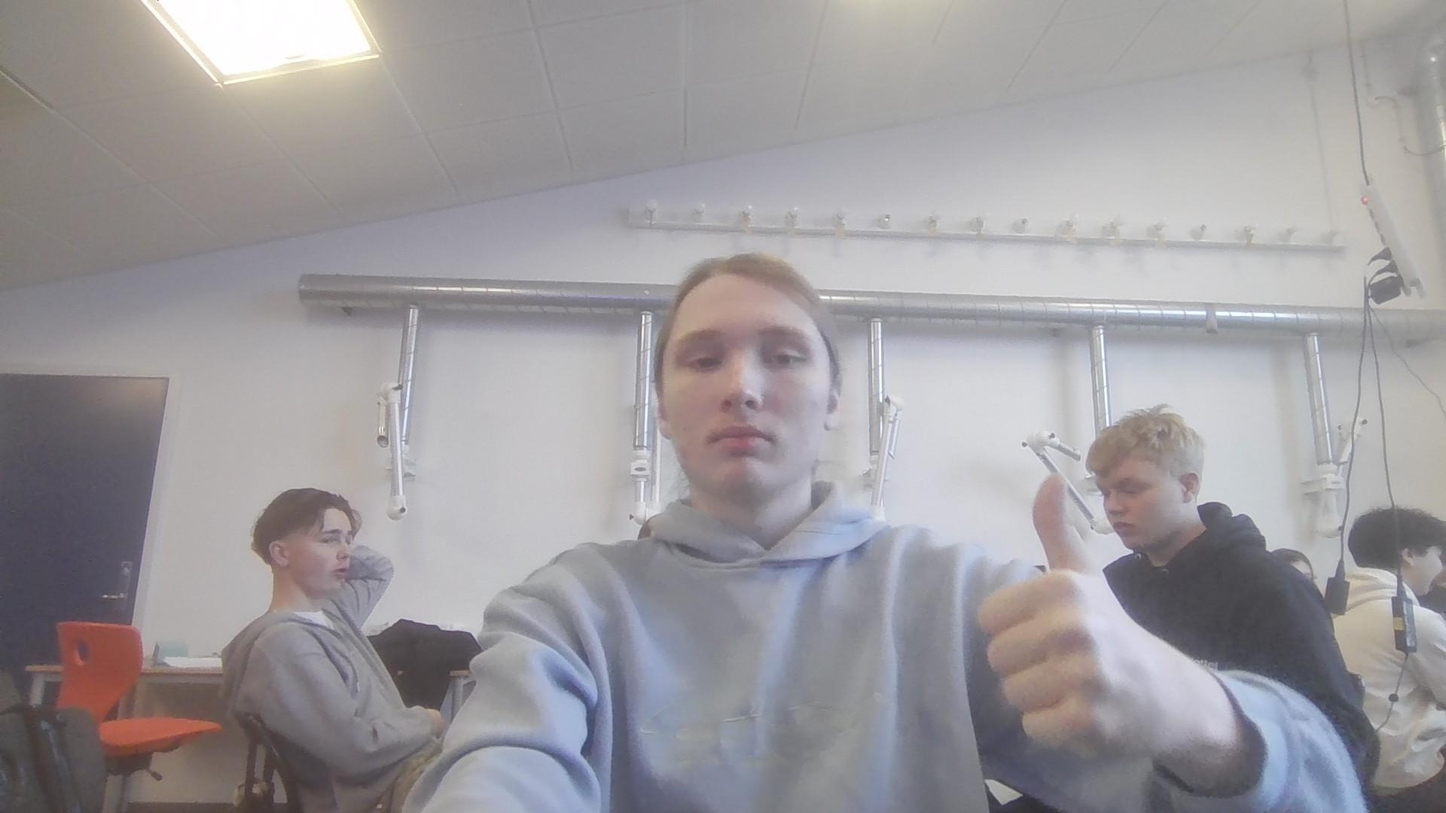thumbs up: (981, 464, 1192, 768)
